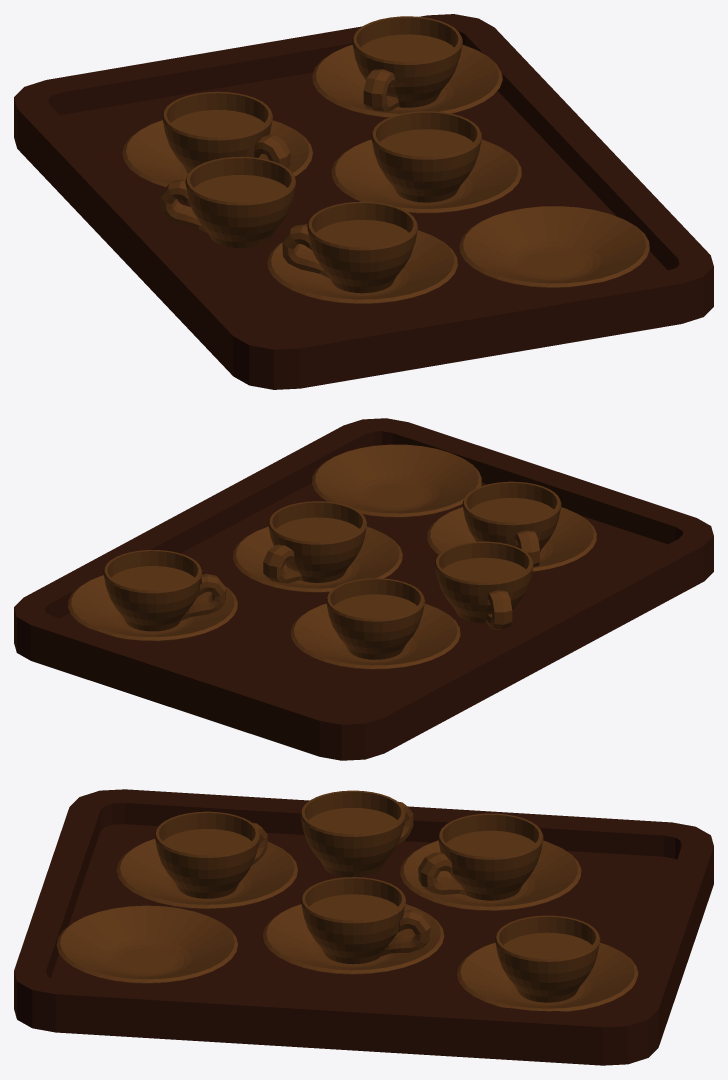
Rendered from Pack Tazas y Platos.fbx.
3 renders of one model, top to bottom at view 1: azimuth 30°, elevation 25°; view 2: azimuth 150°, elevation 25°; view 3: azimuth 270°, elevation 25°, orthographic. The views are drawn at different scales.
Parts seen in each view (by area): view 1: Bandeja, Taza, Taza.001, Taza.002, PlatoIndividual.001, Taza.003, TazaIndividual; view 2: Bandeja, Taza.002, Taza.003, Taza.001, PlatoIndividual.001, Taza, TazaIndividual; view 3: Bandeja, Taza, Taza.003, Taza.001, Taza.002, PlatoIndividual.001, TazaIndividual.
Boxes of the visible parts, x1=… form: Bandeja: x1=14, y1=14, x2=713, y2=389; Taza: x1=267, y1=201, x2=457, y2=303; Taza.001: x1=331, y1=111, x2=521, y2=213; Taza.002: x1=312, y1=16, x2=502, y2=117; PlatoIndividual.001: x1=459, y1=206, x2=649, y2=287; Taza.003: x1=122, y1=91, x2=312, y2=187; TazaIndividual: x1=160, y1=156, x2=296, y2=248; Bandeja: x1=14, y1=418, x2=713, y2=760; Taza.002: x1=68, y1=550, x2=237, y2=641; Taza.003: x1=290, y1=578, x2=460, y2=669; Taza.001: x1=233, y1=501, x2=402, y2=592; PlatoIndividual.001: x1=312, y1=444, x2=481, y2=517; Taza: x1=427, y1=481, x2=596, y2=571; TazaIndividual: x1=435, y1=541, x2=533, y2=629; Bandeja: x1=14, y1=789, x2=713, y2=1065; Taza: x1=116, y1=811, x2=297, y2=909; Taza.003: x1=400, y1=813, x2=581, y2=910; Taza.001: x1=263, y1=877, x2=444, y2=974; Taza.002: x1=457, y1=915, x2=638, y2=1011; PlatoIndividual.001: x1=56, y1=905, x2=237, y2=983; TazaIndividual: x1=300, y1=790, x2=413, y2=877.
Bounding box in the file's own units: 43.24 × 6.3 × 53.76.
